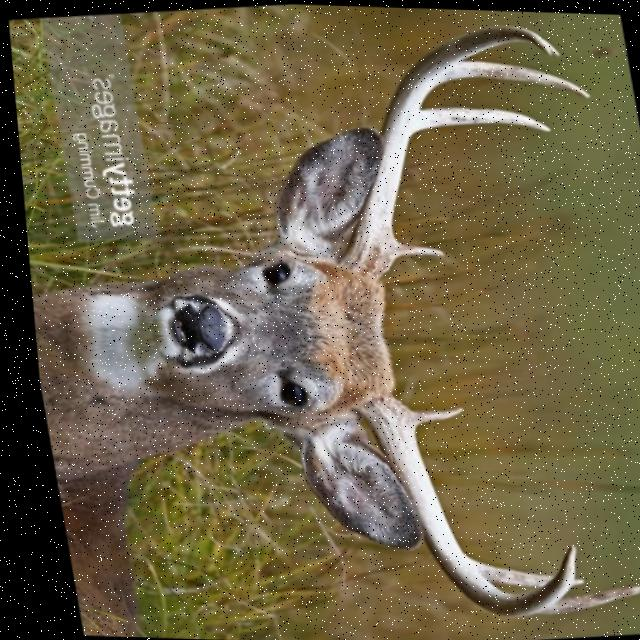L-F: (340, 24, 559, 276)
L-G1: (388, 238, 439, 259)
L-G2: (407, 105, 548, 131)
L-G3: (444, 59, 588, 96)
R-F: (351, 397, 564, 615)
R-G1: (402, 406, 454, 424)
